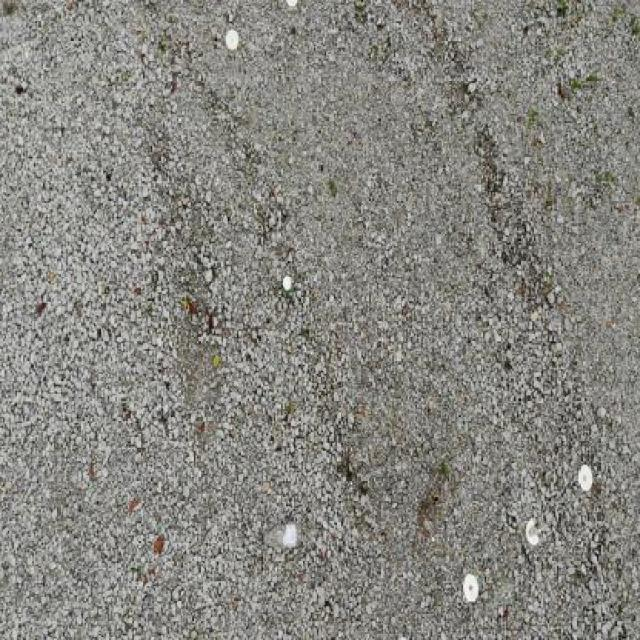Garbage: (263, 519, 299, 550), (282, 275, 293, 299)
